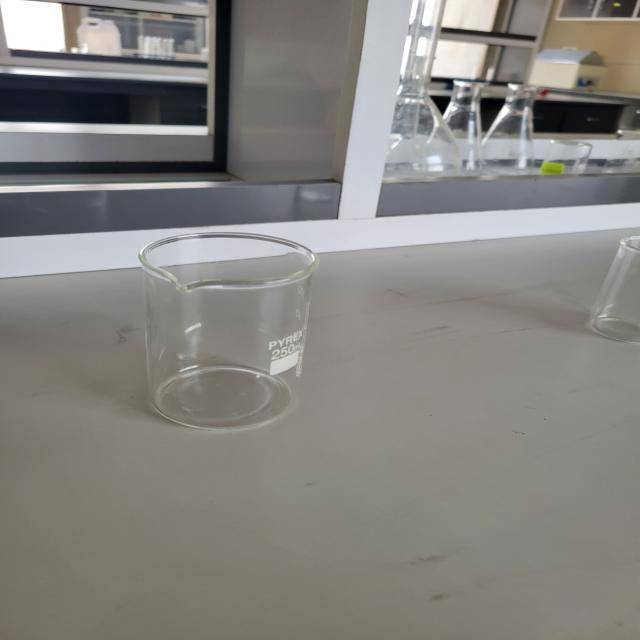Beaker: (96, 205, 358, 451)
